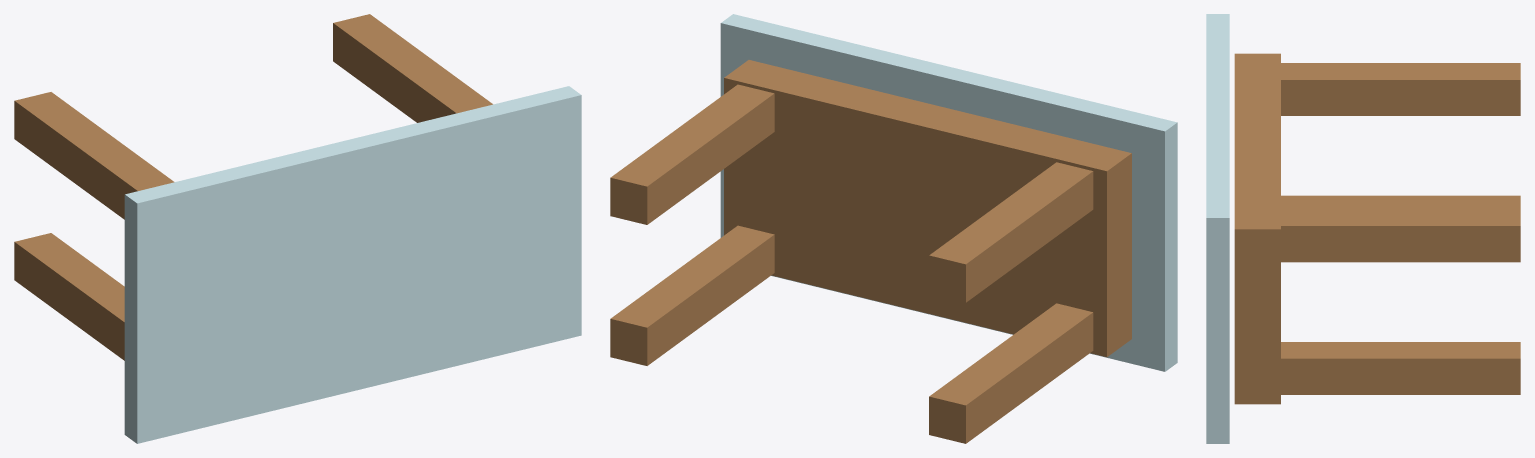
Rendered from coffee-tables.glb.
The picture shows the model from 3 angles, left to right: view 1: azimuth 30°, elevation 25°; view 2: azimuth 150°, elevation 25°; view 3: azimuth 270°, elevation 25°; orthographic projection. The views are drawn at different scales.
Parts seen in each view (by area): view 1: GlassTop, world, Leg; view 2: Frame, world, GlassTop, Leg; view 3: world, Frame, Leg, GlassTop.
Boxes of the visible parts, <box> form: GlassTop: <box>124,86,581,443</box>; world: <box>14,92,174,360</box>; Leg: <box>333,14,492,122</box>; Frame: <box>724,60,1131,357</box>; world: <box>610,162,1093,443</box>; GlassTop: <box>720,14,1177,371</box>; Leg: <box>610,84,774,224</box>; world: <box>1281,63,1520,394</box>; Frame: <box>1234,53,1280,404</box>; Leg: <box>1281,209,1520,262</box>; GlassTop: <box>1206,14,1229,443</box>.
Size of the model in its own units: 1.45 by 0.75 by 0.945.
